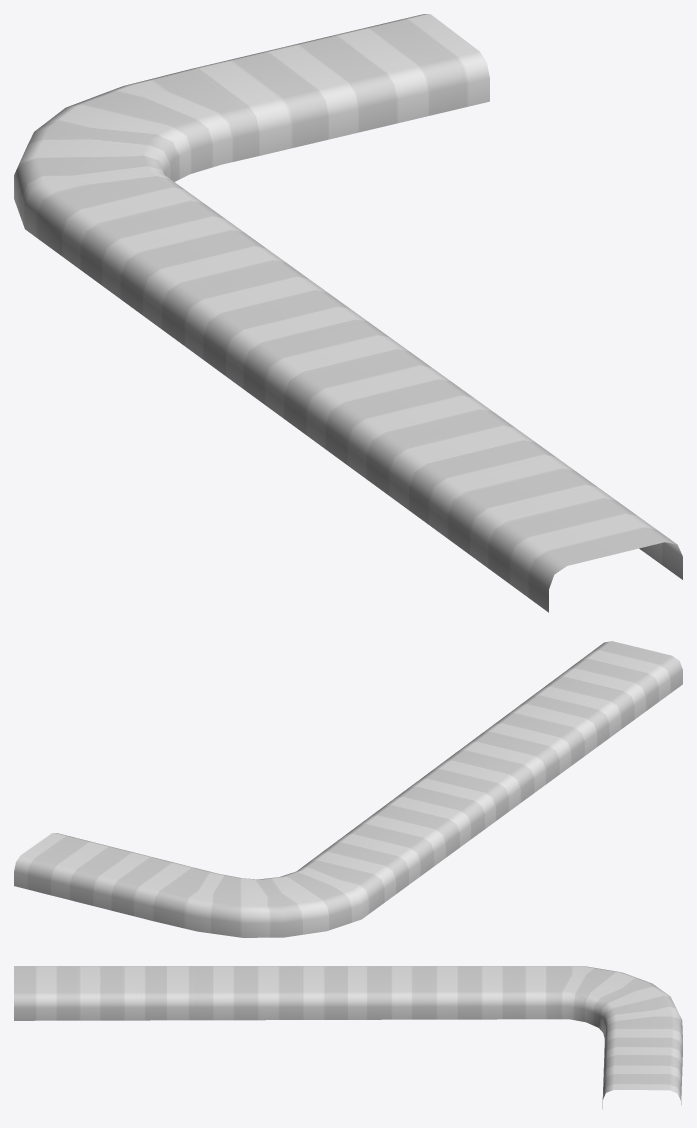
Rendered from road_02.fbx.
3 views of the same model, one above another, from view 1: azimuth 30°, elevation 25°; view 2: azimuth 150°, elevation 25°; view 3: azimuth 270°, elevation 25° (orthographic). The views are drawn at different scales.
Visible parts, largest first — view 1: road_02; view 2: road_02; view 3: road_02.
Boxes of the visible parts, left/top/right/bottom form: road_02: left=14, top=14, right=682, bottom=612; road_02: left=14, top=641, right=682, bottom=937; road_02: left=14, top=966, right=682, bottom=1109.
Size of the model in its own units: 4370 by 368 by 9622.
Materials: 1 (1 with a texture image).
